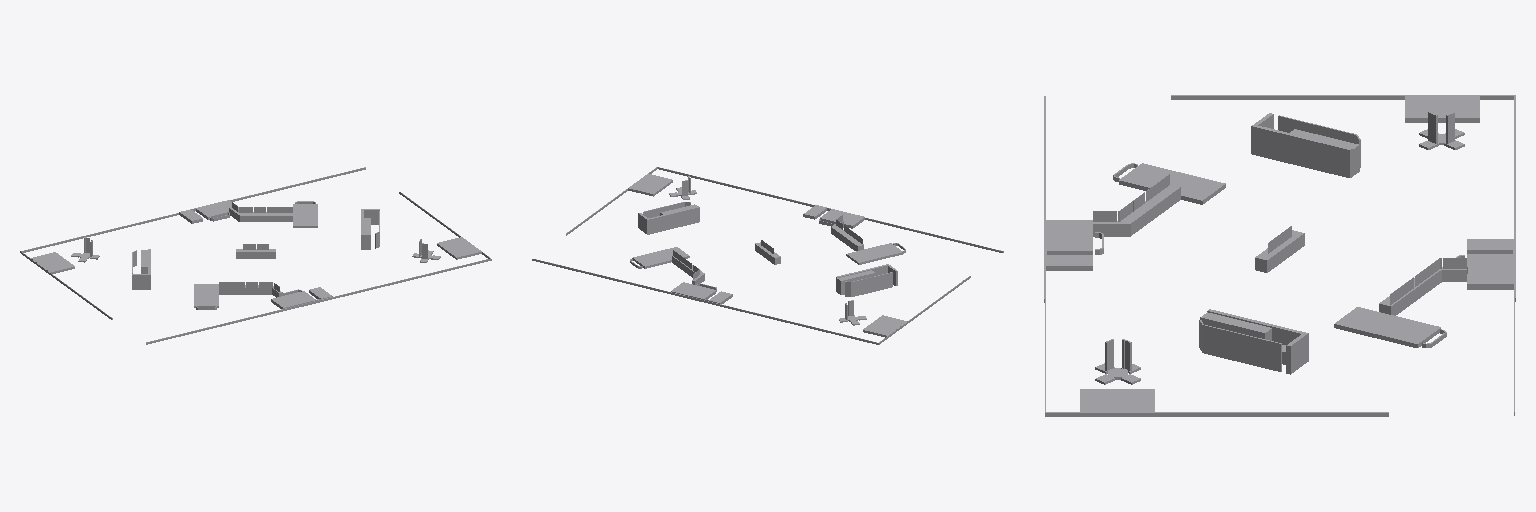
URDF robot description (core1_2027_field):
<?xml version="1.0"?>
<!-- CoRE-1 の試験のフィールドの構造物（core1_2027_outlines.yaml の外形 47 個を押し出したもの）。make_core1_field_model.py が作る。手で直さず、スクリプトで作り直す -->
<robot name="core1_2027_field">
  <link name="field">
    <inertial><mass value="1000.0"/><inertia ixx="1" ixy="0" ixz="0" iyy="1" iyz="0" izz="1"/></inertial>
    <visual><origin xyz="0.000 0.000 0" rpy="0 0 0"/><geometry><mesh filename="package://core_gazebo/models/core1_2027_field/meshes/core1_2027_field.stl"/></geometry><material name="field_grey"><color rgba="0.7 0.7 0.72 1"/></material></visual>
    <collision><origin xyz="0.000 0.000 0" rpy="0 0 0"/><geometry><mesh filename="package://core_gazebo/models/core1_2027_field/meshes/core1_2027_field.stl"/></geometry></collision>
  </link>
  <gazebo><static>true</static></gazebo>
</robot>

--- What the picture shows (computed from the rendered views, not written in the file) ---
Views: 3 orthographic renders of the robot side by side, from view 1: azimuth 30°, elevation 25°; view 2: azimuth 150°, elevation 25°; view 3: azimuth 270°, elevation 25°.
Model core1_2027_field with 1 links and 0 joints (none), rooted at field, posed all joints at 0.
Visible links, largest first — view 1: field; view 2: field; view 3: field.
Link boxes in pixels (bbox=[...]): field: bbox=[20, 167, 491, 344]; field: bbox=[532, 167, 1003, 344]; field: bbox=[1044, 95, 1515, 416].
Bounding box of the posed robot: 24.08 × 15.08 × 1.08 m (x, y, z).
Meshes: 1 distinct files referenced, 1 mesh visuals loaded (1 binary STL).
